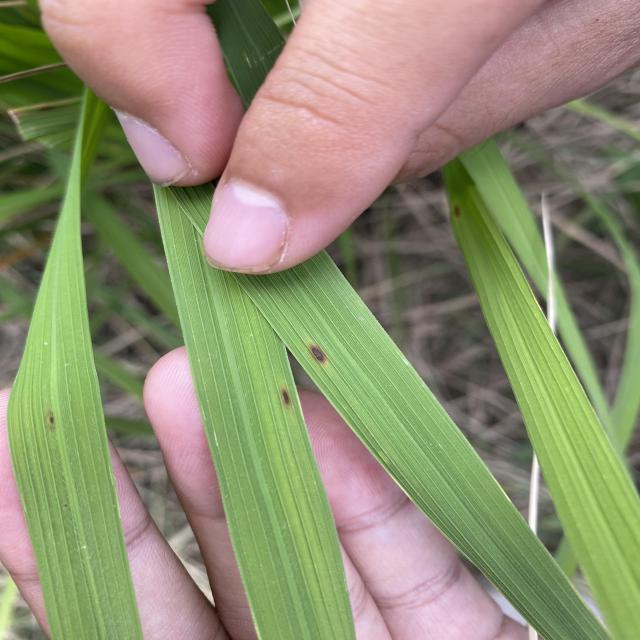Dom nau: (306, 341, 329, 367), (279, 388, 294, 410), (47, 411, 56, 429)
